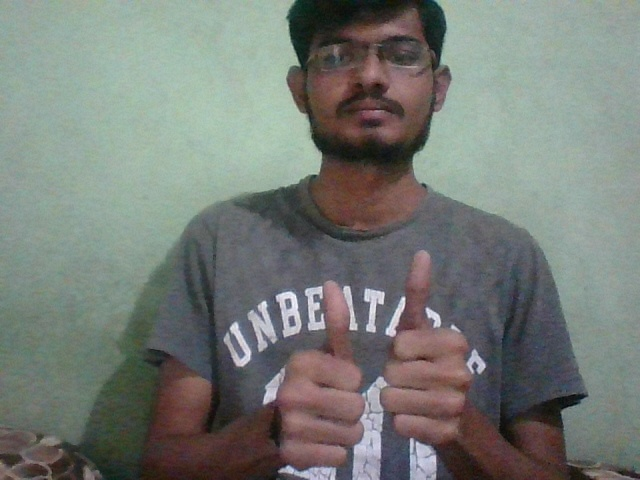which: (275, 250, 479, 470)
